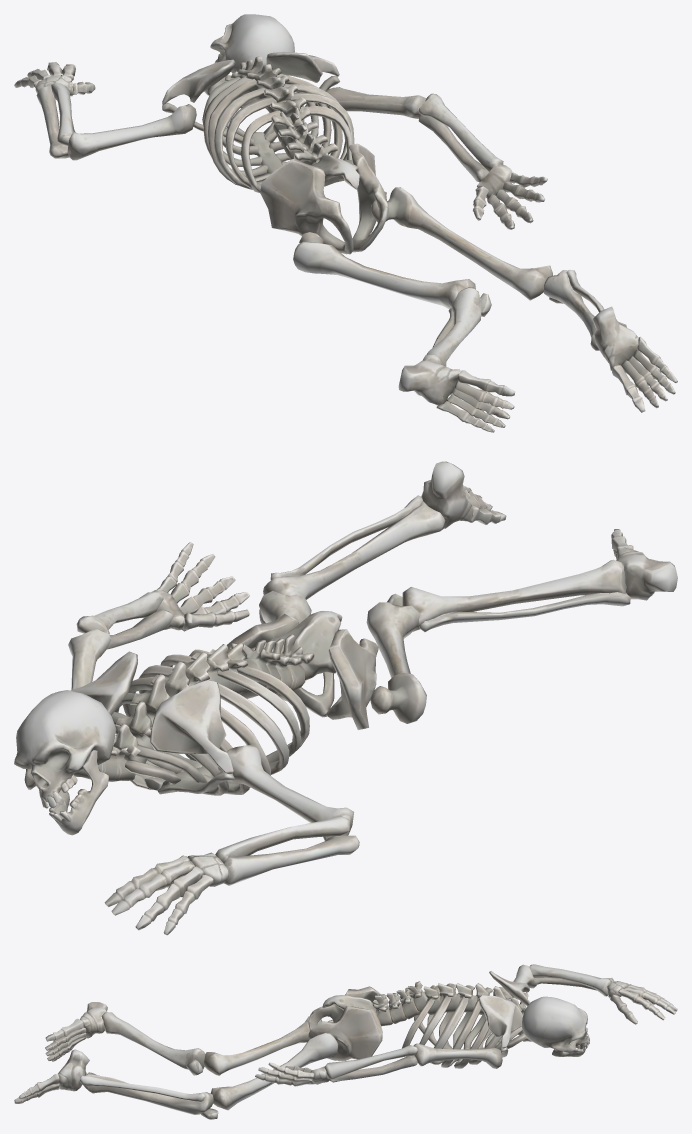
3 renders of one model, top to bottom at view 1: azimuth 30°, elevation 25°; view 2: azimuth 150°, elevation 25°; view 3: azimuth 270°, elevation 25°, orthographic. The views are drawn at different scales.
Parts seen in each view (by area): view 1: SM_FullBody_03_LOD0; view 2: SM_FullBody_03_LOD0; view 3: SM_FullBody_03_LOD0.
Part boxes in pixels (x1,y1,x2,y2): SM_FullBody_03_LOD0: (14,14,677,432); SM_FullBody_03_LOD0: (14,461,677,935); SM_FullBody_03_LOD0: (14,964,677,1119).
Bounding box in the file's own units: 0.8593 × 0.3614 × 2.13.
1 material, 1 textured.
